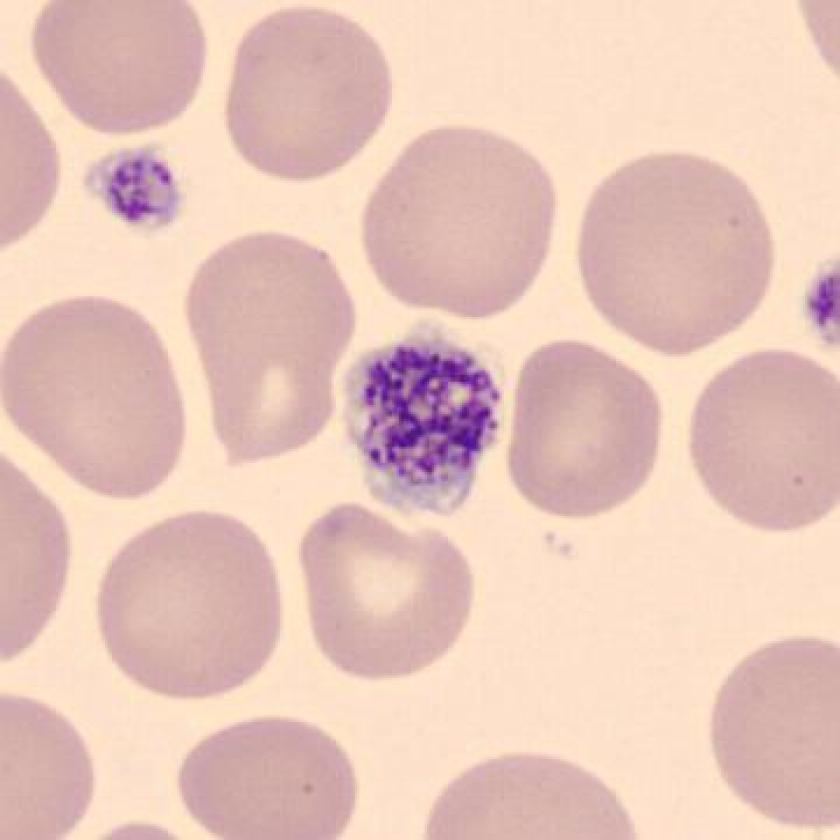platelets: (332, 309, 519, 531), (76, 131, 197, 253)
